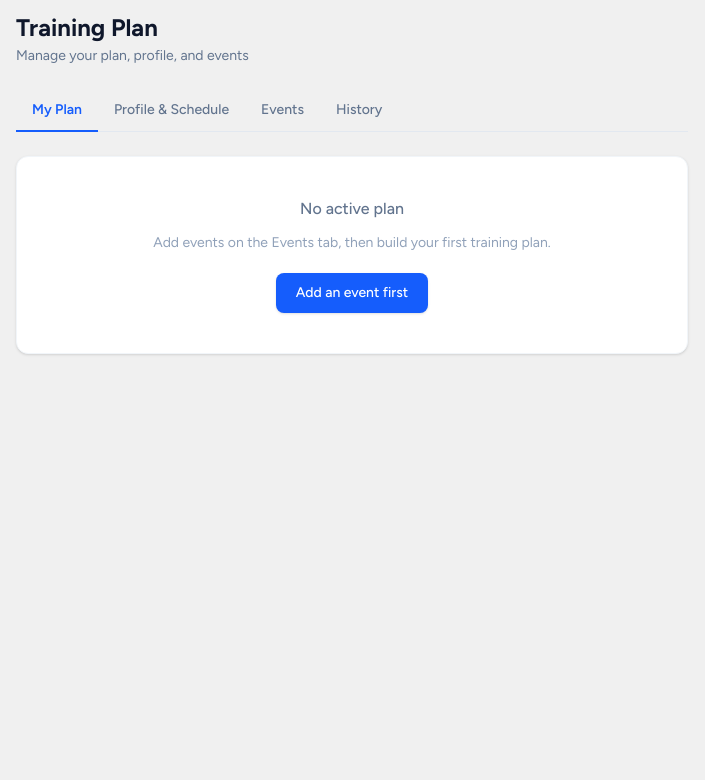
Test: Profile & Schedule tab › shows an editable Max HR input with an auto-calculate hint when Stats Edit is clicked
The image size is (705, 780).
Click the button "Profile & Schedule" at (172, 111), box [98,90,245,132]
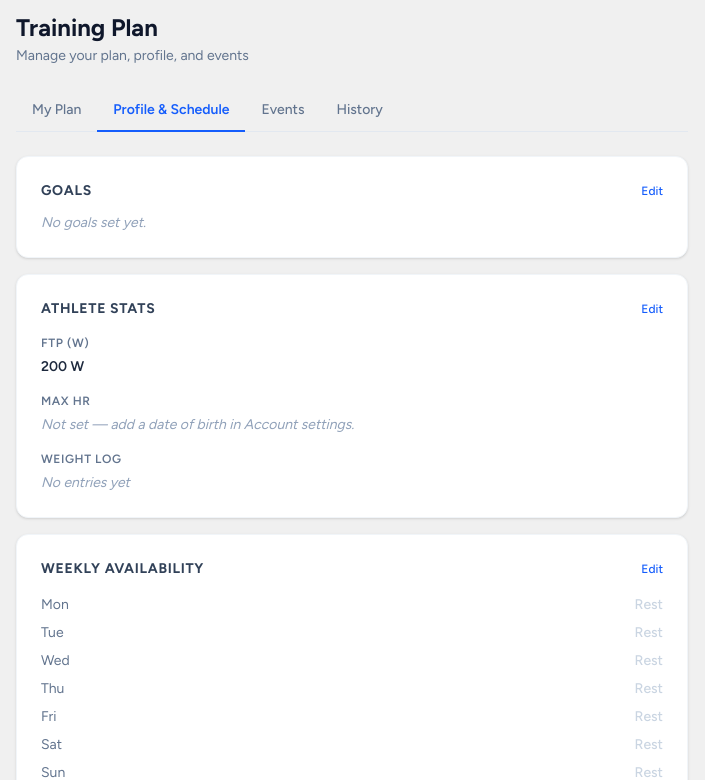
Click the button with aria-label "edit stats" at (652, 309), box [641,301,663,317]
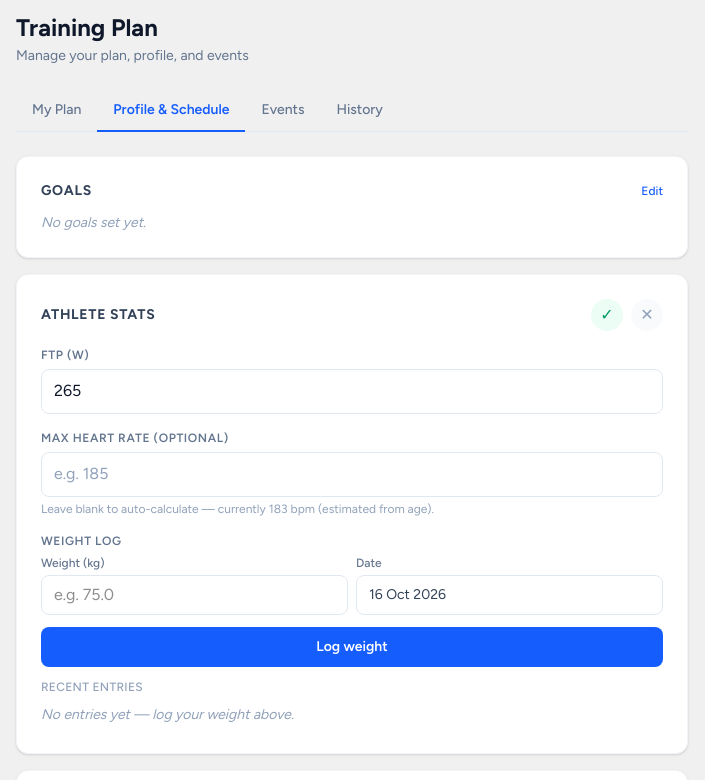
Now the number field labelled "Max heart rate (optional)" is shown, box [41,452,663,497]
